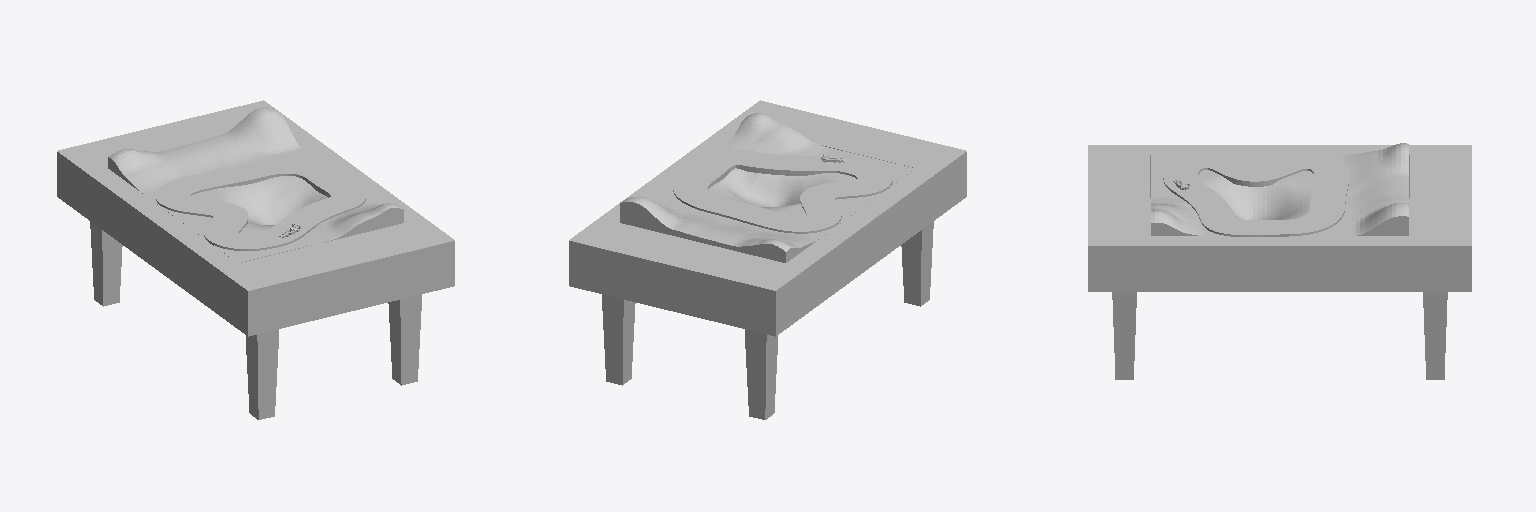
The model's file is NewestTisch52.obj.
3 views of the same model, side by side, from view 1: azimuth 30°, elevation 25°; view 2: azimuth 150°, elevation 25°; view 3: azimuth 270°, elevation 25° (orthographic).
Visible parts, largest first — view 1: Tischplatte_wood_table_001, Landschaft_aerial_grass_rock, off, Bein1_wood_table_001, Bein4_wood_table_001.003, Bein3_wood_table_001.002; view 2: Tischplatte_wood_table_001, Landschaft_aerial_grass_rock, off, Bein2_wood_table_001.001, Bein3_wood_table_001.002, Bein4_wood_table_001.003; view 3: Tischplatte_wood_table_001, Landschaft_aerial_grass_rock, off, Bein1_wood_table_001, Bein2_wood_table_001.001.
Boxes of the visible parts, <box> form: Tischplatte_wood_table_001: <box>57,100,454,336</box>; Landschaft_aerial_grass_rock: <box>108,107,403,262</box>; off: <box>156,159,365,250</box>; Bein1_wood_table_001: <box>388,294,421,385</box>; Bein4_wood_table_001.003: <box>246,329,278,419</box>; Bein3_wood_table_001.002: <box>90,221,122,306</box>; Tischplatte_wood_table_001: <box>569,100,966,336</box>; Landschaft_aerial_grass_rock: <box>620,113,915,262</box>; off: <box>673,150,892,233</box>; Bein2_wood_table_001.001: <box>602,294,635,385</box>; Bein3_wood_table_001.002: <box>745,329,777,419</box>; Bein4_wood_table_001.003: <box>901,221,933,306</box>; Tischplatte_wood_table_001: <box>1088,145,1471,291</box>; Landschaft_aerial_grass_rock: <box>1151,143,1408,235</box>; off: <box>1163,153,1348,236</box>; Bein1_wood_table_001: <box>1112,292,1136,379</box>; Bein2_wood_table_001.001: <box>1423,292,1447,379</box>.
Bounding box in the file's own units: 5 × 3.91 × 8.